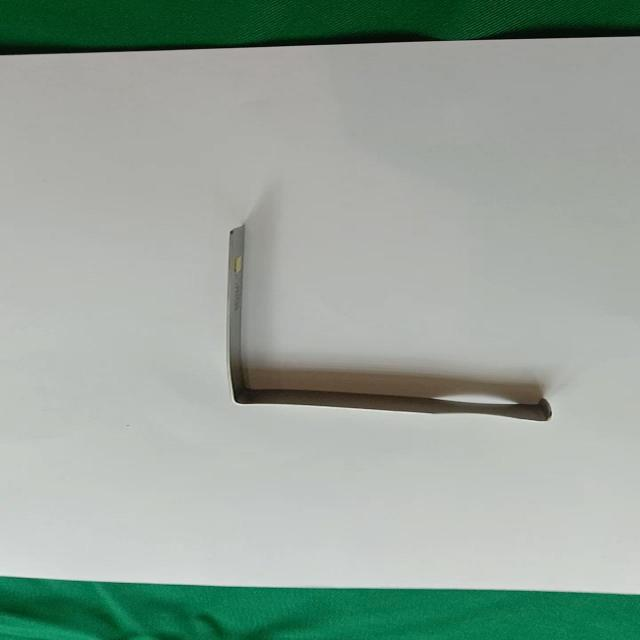AustinRetractor: (216, 220, 572, 432)
